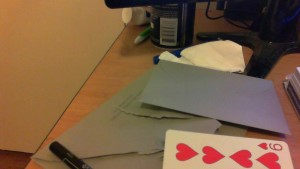NineOfHearts: (162, 128, 294, 169)
